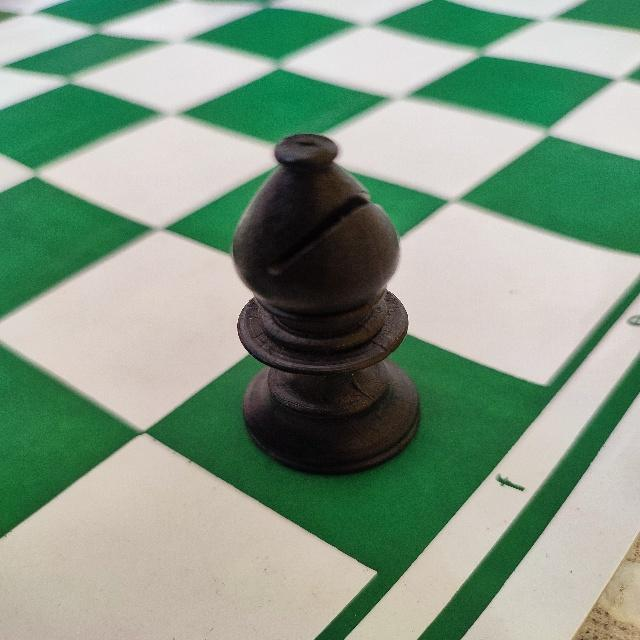Bishop: (228, 133, 434, 485)
